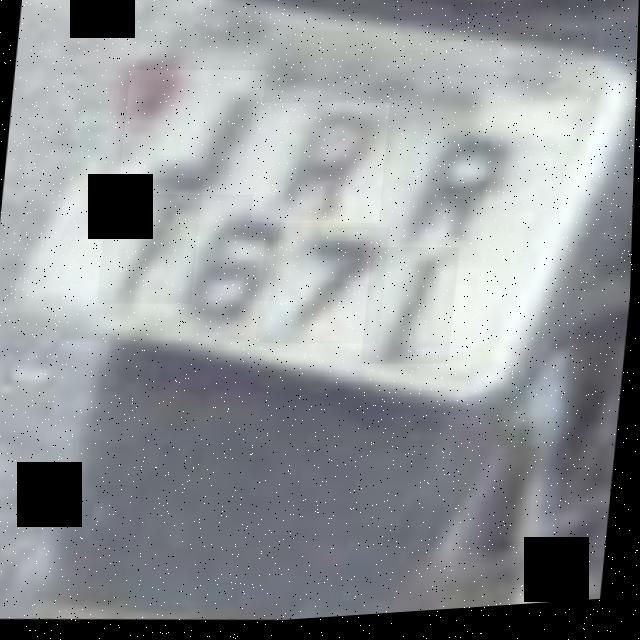1: (98, 175, 205, 311), (362, 247, 461, 375)
6: (162, 193, 310, 342)
7: (256, 224, 391, 355)
J: (119, 64, 266, 205)
P: (387, 114, 525, 282)
R: (252, 99, 391, 235)
